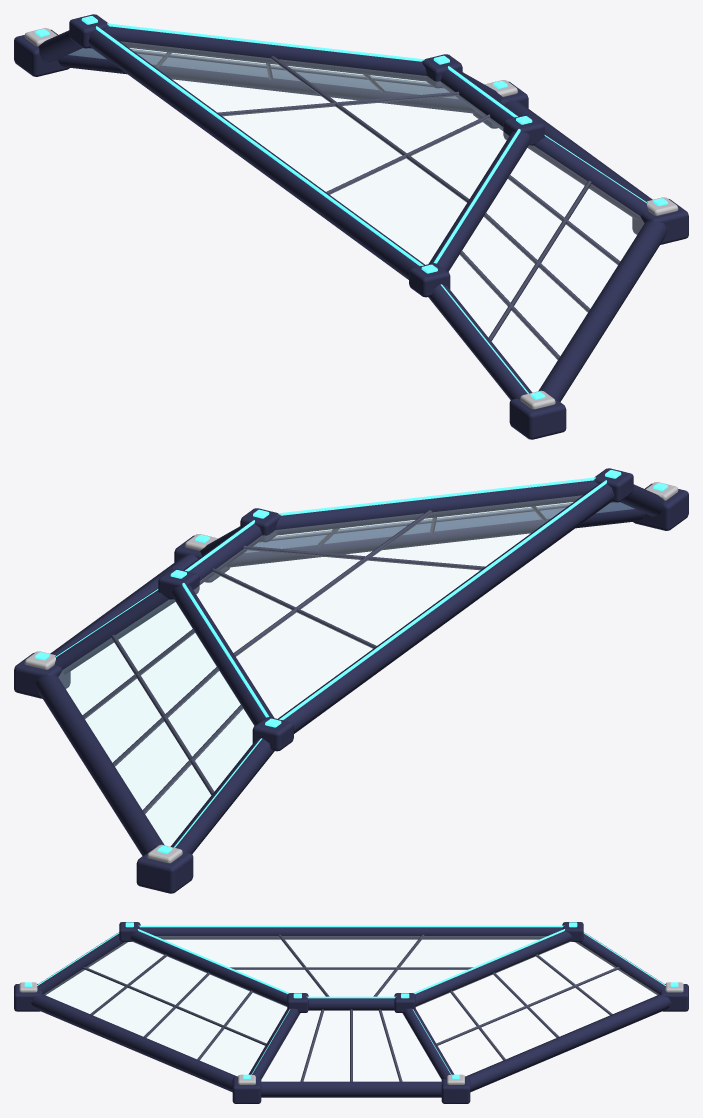
File: BOW_canopy.glb
3 renders of one model, top to bottom at view 1: azimuth 30°, elevation 25°; view 2: azimuth 150°, elevation 25°; view 3: azimuth 270°, elevation 25°, orthographic. The views are drawn at different scales.
Parts seen in each view (by area): view 1: BOW_canopy.001; view 2: BOW_canopy.001; view 3: BOW_canopy.001.
Boxes of the visible parts, <box> form: BOW_canopy.001: <box>14,14,688,439</box>; BOW_canopy.001: <box>14,468,688,893</box>; BOW_canopy.001: <box>14,922,688,1103</box>.
Size of the model in its own units: 3.51 by 1.07 by 8.89.
